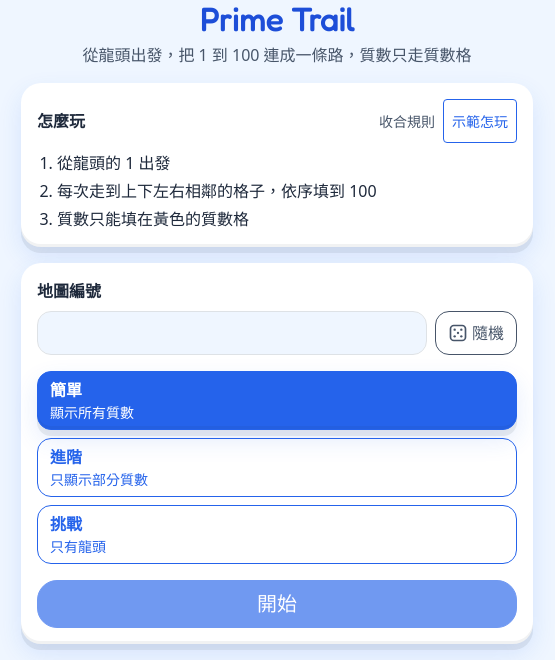
Scenario: HomeView › marks an assisted-only clear as assisted
(page scrolled)
In the number field labelled "地圖編號": (232, 333) [37, 311, 427, 355], type "1"
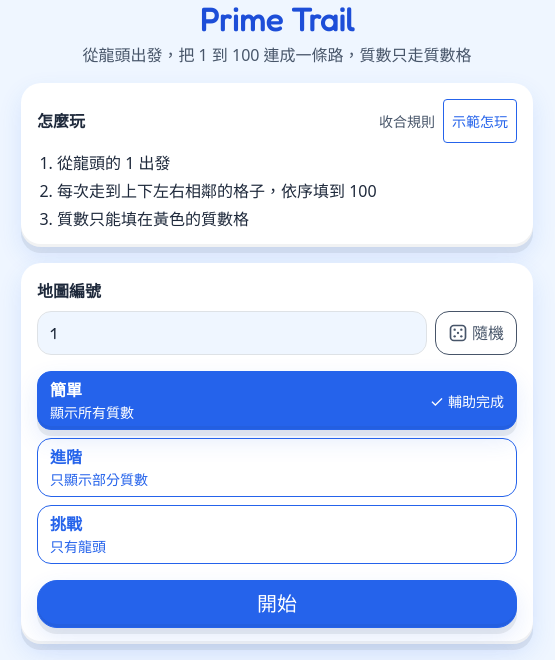
Check: the element showing "✓輔助完成" is shown, box [430, 389, 504, 413]
